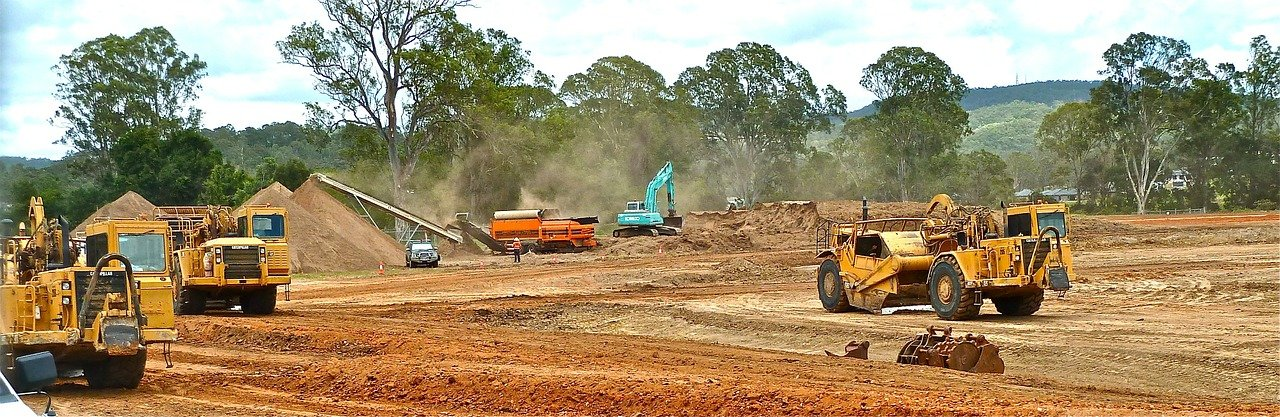bulldozer: (813, 192, 1077, 327)
